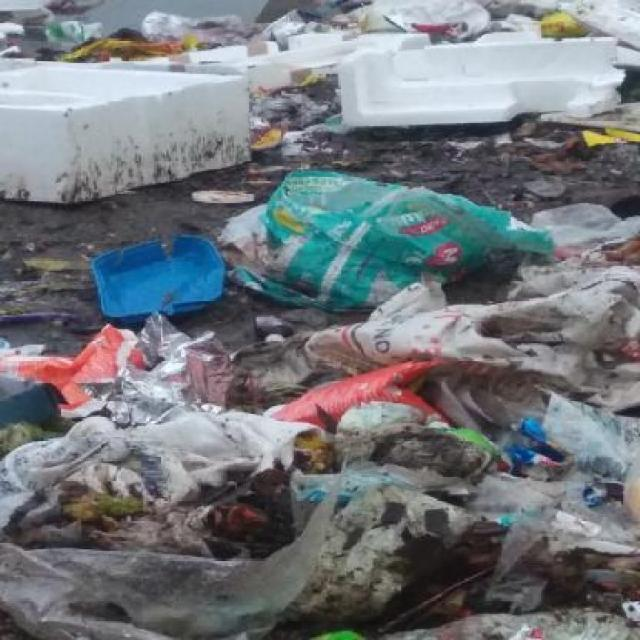garbage: (6, 245, 639, 640), (3, 0, 639, 234)
